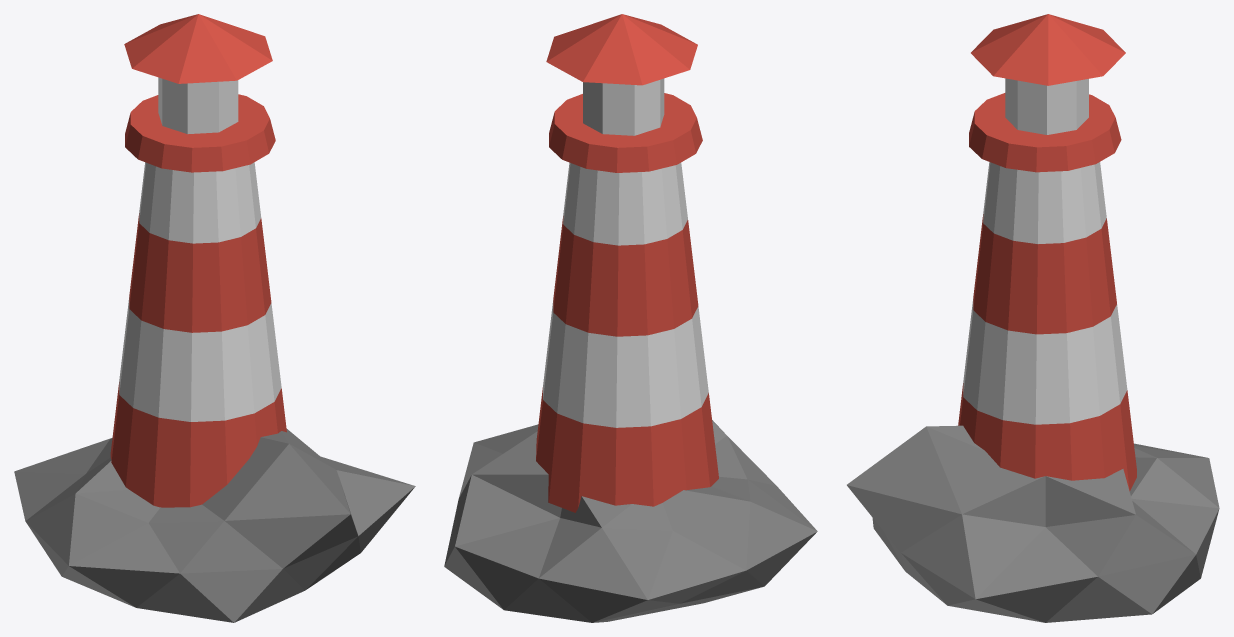
File: LightHouse1.fbx
The picture shows the model from 3 angles, left to right: view 1: azimuth 30°, elevation 25°; view 2: azimuth 150°, elevation 25°; view 3: azimuth 270°, elevation 25°; orthographic projection. The views are drawn at different scales.
Parts seen in each view (by area): view 1: Cylinder, Icosphere, Cone, Cylinder.001; view 2: Cylinder, Icosphere, Cone, Cylinder.001; view 3: Cylinder, Icosphere, Cone, Cylinder.001.
Boxes of the visible parts, x1,y1,x2,y2 form: Cylinder: (110,94,286,507); Icosphere: (14,429,415,622); Cone: (124,14,272,83); Cylinder.001: (158,77,238,134); Cylinder: (536,93,718,512); Icosphere: (444,420,817,622); Cone: (546,14,697,85); Cylinder.001: (583,78,664,135); Cylinder: (958,93,1136,491); Icosphere: (847,425,1219,622); Cone: (971,14,1125,85); Cylinder.001: (1005,78,1088,134).
Size of the model in its own units: 741 by 1188 by 693.
